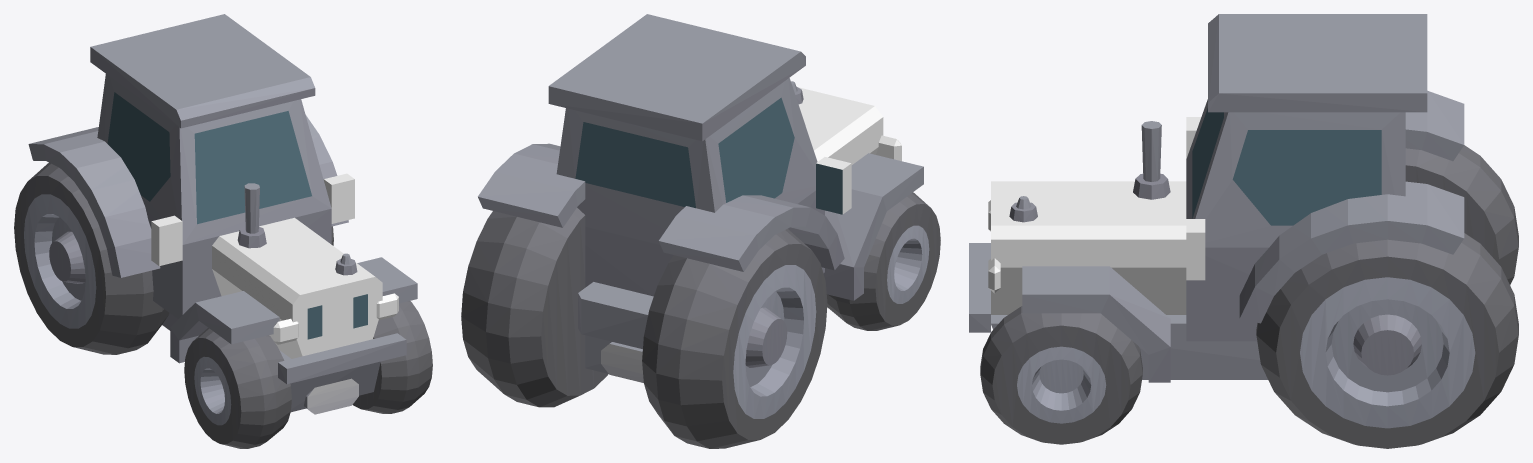
File: tractor.glb
The picture shows the model from 3 angles, left to right: view 1: azimuth 30°, elevation 25°; view 2: azimuth 150°, elevation 25°; view 3: azimuth 270°, elevation 25°; orthographic projection. The views are drawn at different scales.
Parts seen in each view (by area): view 1: trim, body, head; view 2: trim, body, head; view 3: trim, body.
Boxes of the visible parts, left/top/right/bottom form: trim: left=14, top=14, right=432, bottom=448; body: left=151, top=173, right=382, bottom=358; head: left=273, top=293, right=398, bottom=344; trim: left=461, top=14, right=940, bottom=448; body: left=798, top=87, right=883, bottom=214; head: left=876, top=135, right=901, bottom=161; trim: left=969, top=14, right=1518, bottom=448; body: left=991, top=117, right=1205, bottom=314.
Size of the model in its own units: 2.07 by 2.47 by 3.57.
